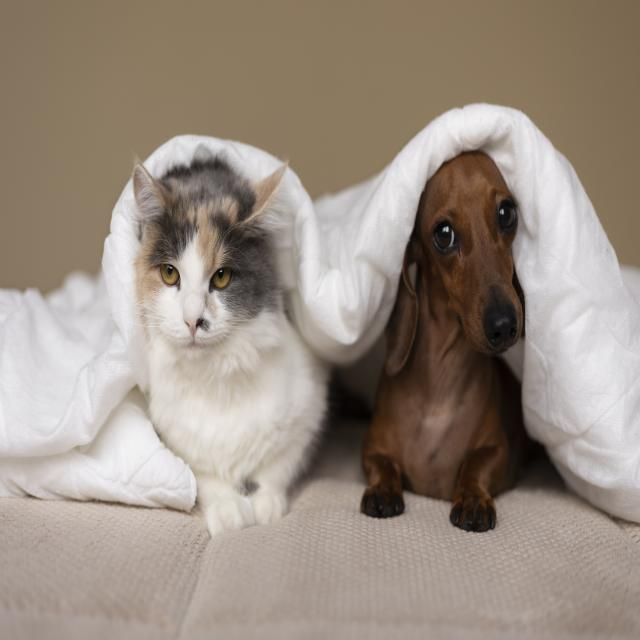cats-dogs: (129, 156, 327, 538)
dog: (358, 148, 528, 535)
